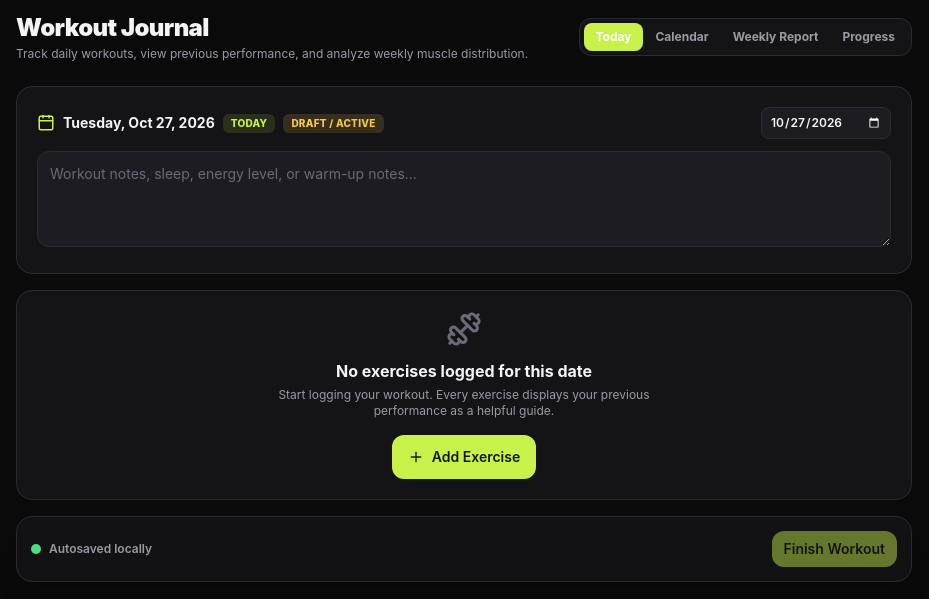
Test: WorkoutJournal feature test › can view Progress section and chart container
Click the button "Progress" at (869, 37), box [830,23,907,51]
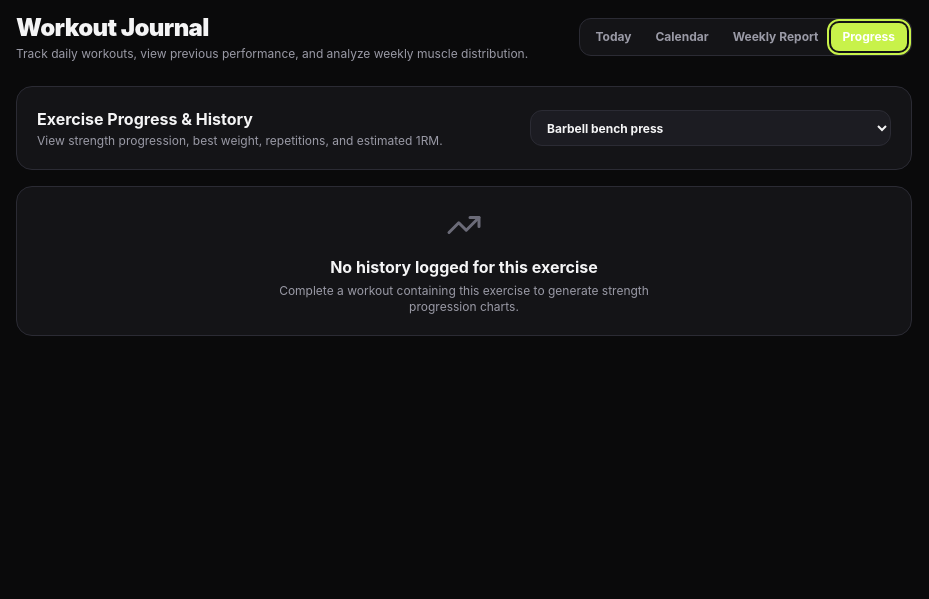
Result: the heading "Exercise Progress & History" is shown at [37,109,253,129]
